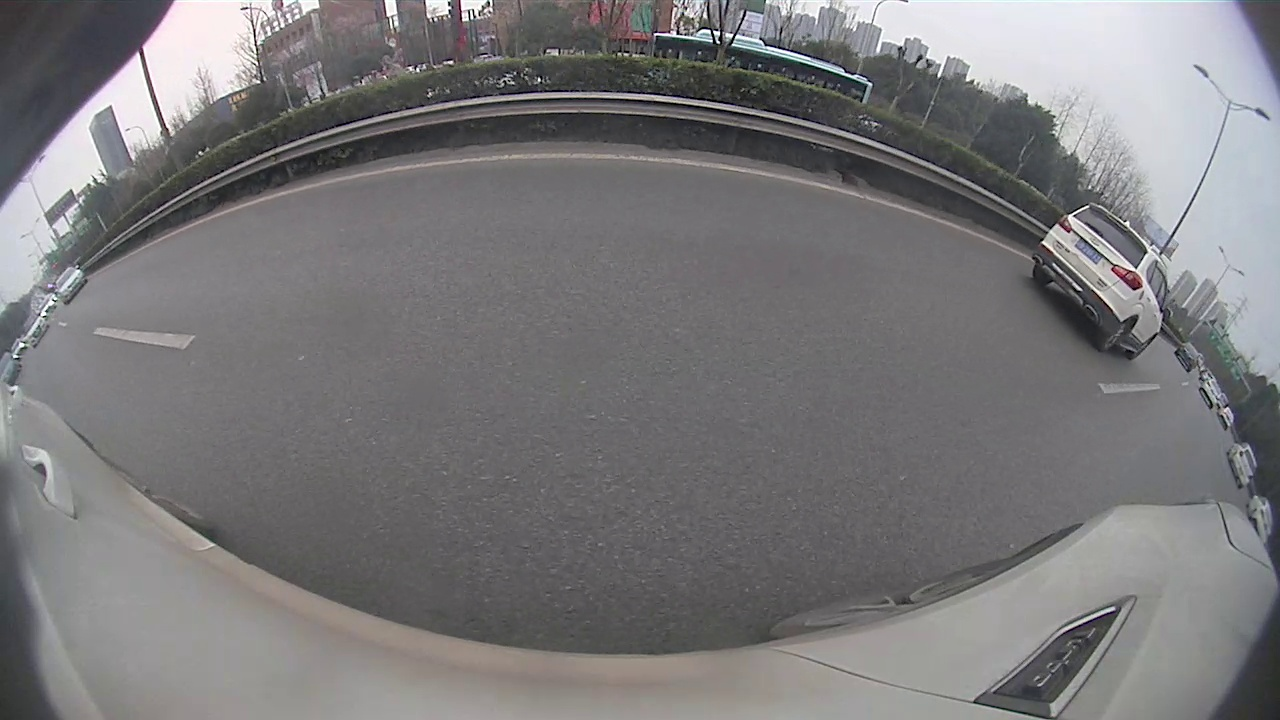car: (1033, 203, 1172, 365)
rear: (1091, 318, 1132, 353)
